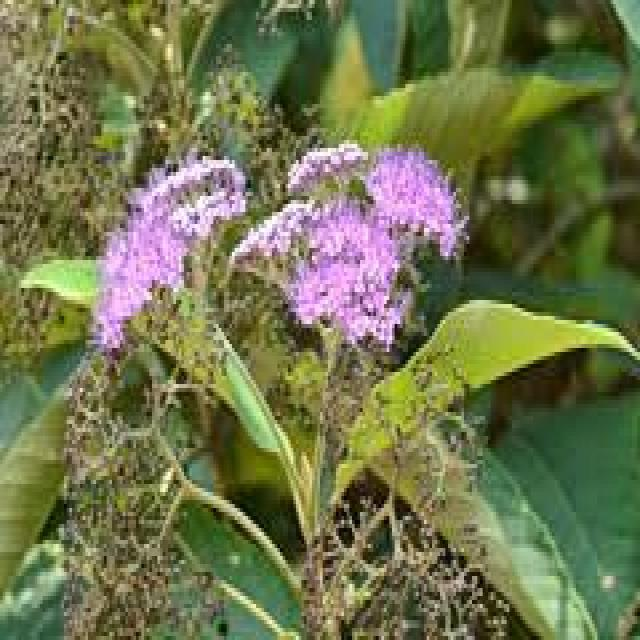organic waste: (242, 138, 482, 326), (81, 156, 231, 360)
